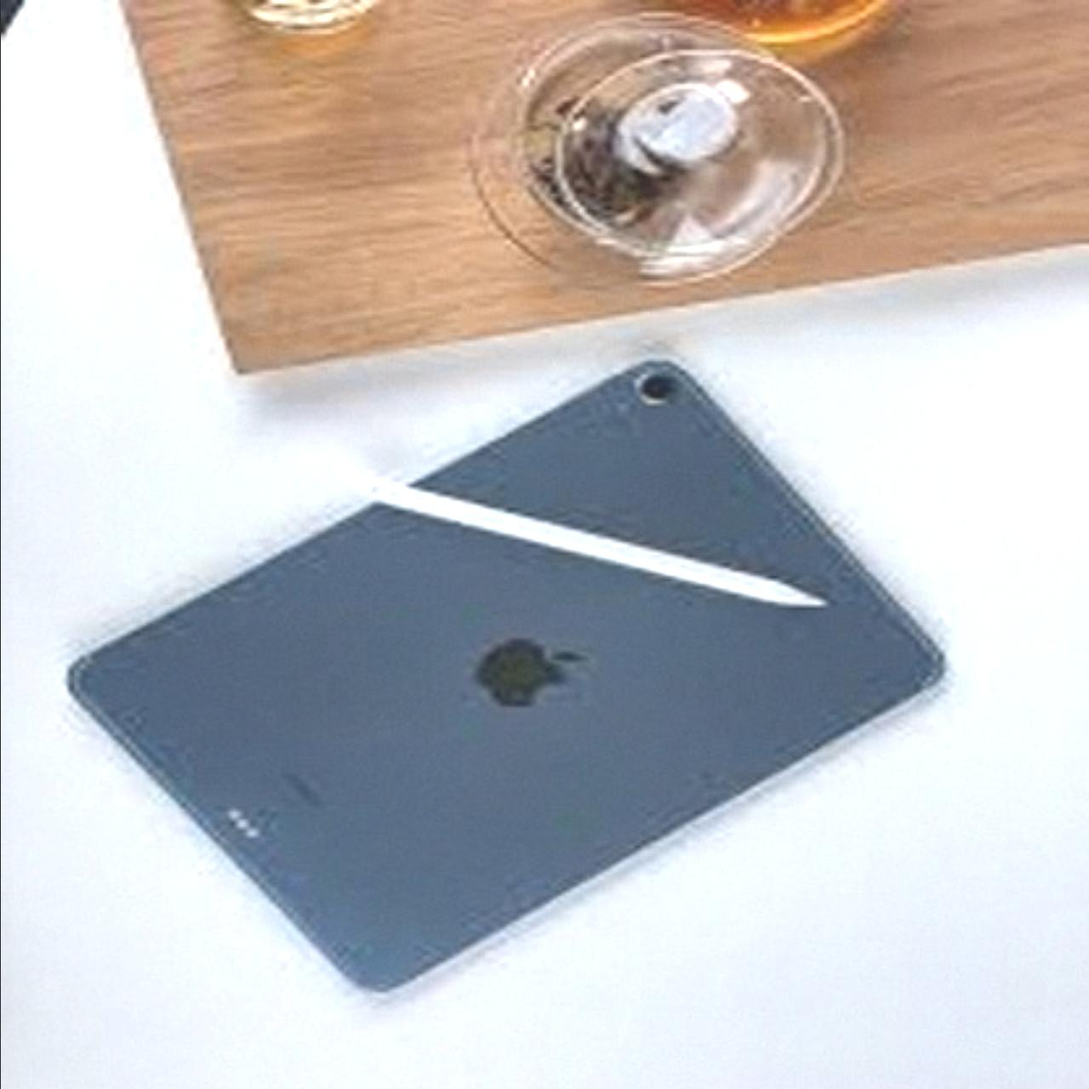Tablet_PC: (50, 351, 958, 1021)
